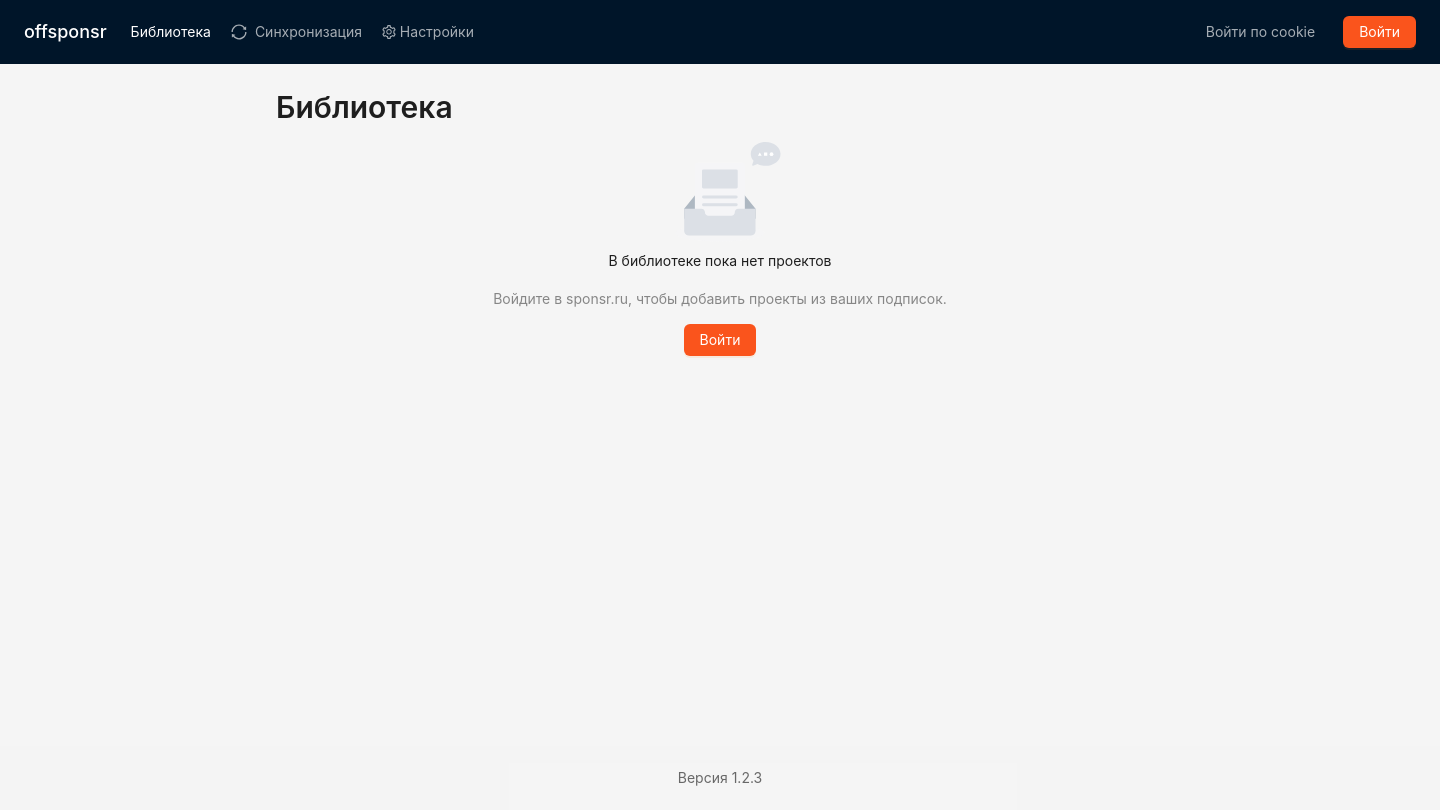
Test: App › leads to the sync page and the settings from any page
The image size is (1440, 810).
Step 1. Click the link "Синхронизация" → click(296, 32), box top-left (231, 23), bottom-right (362, 40)
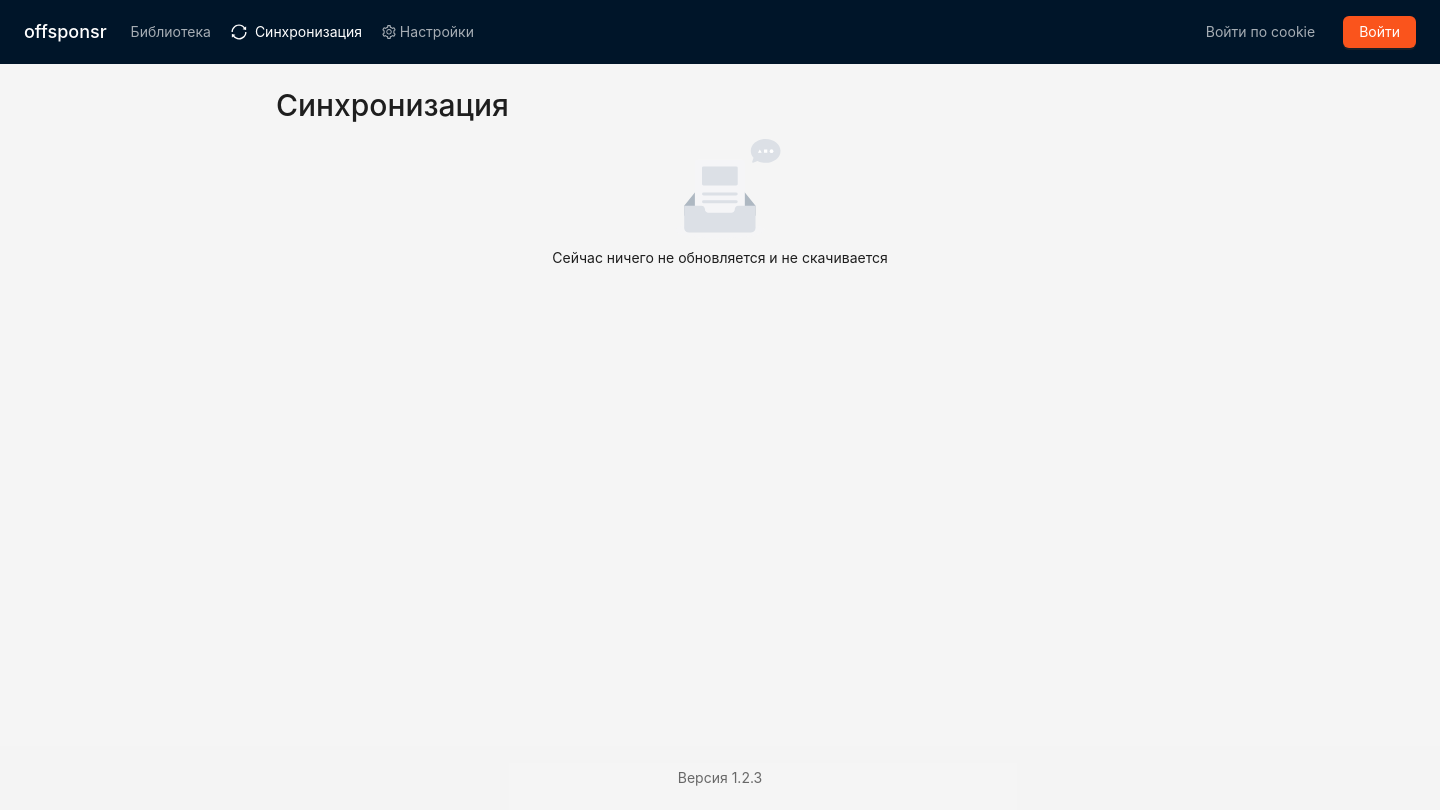
Check: the heading "Синхронизация" is shown, box top-left (276, 87), bottom-right (509, 123)
Step 2. Click the link "Настройки" → click(428, 32), box top-left (382, 23), bottom-right (474, 40)
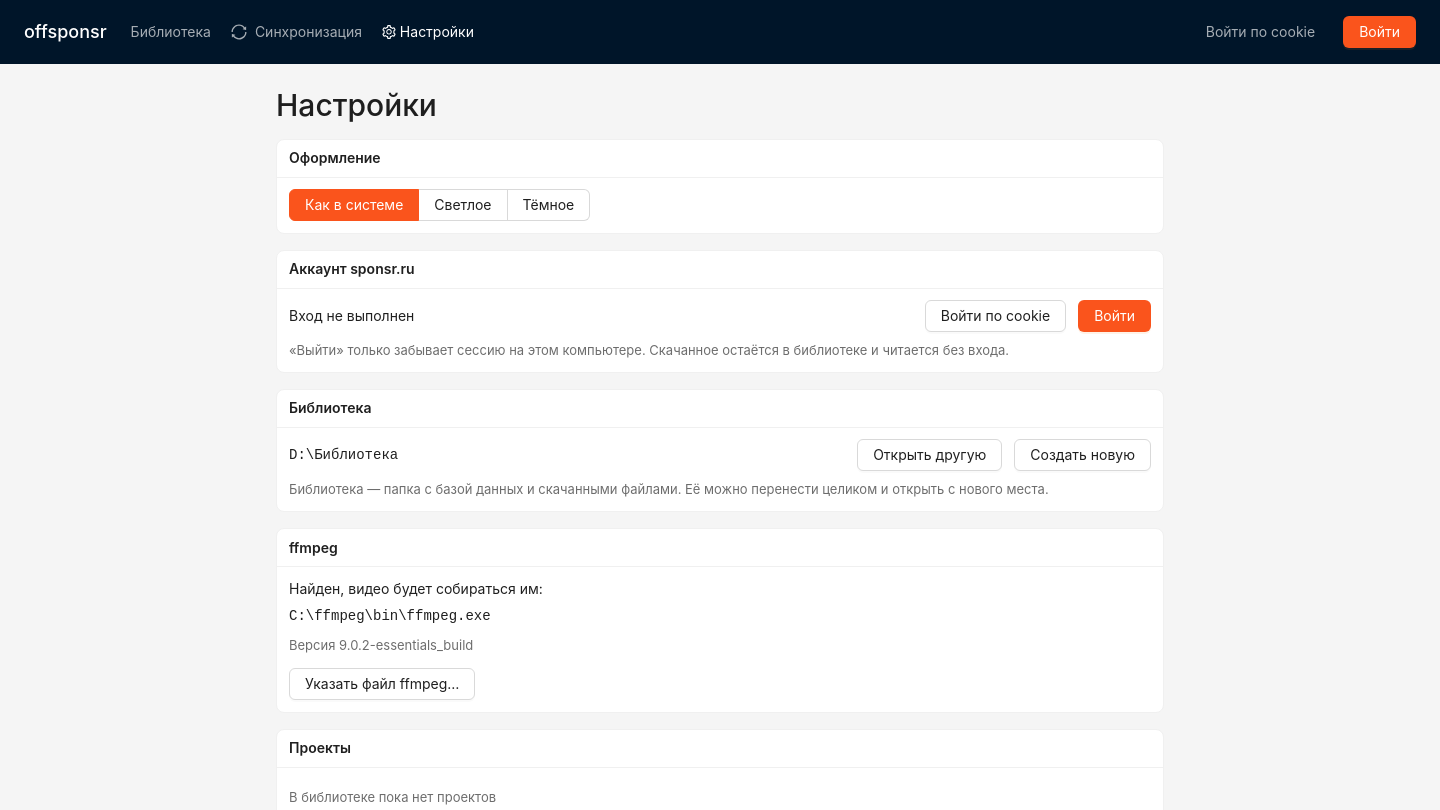
Check: the heading "Настройки" is shown, box top-left (276, 87), bottom-right (437, 123)
